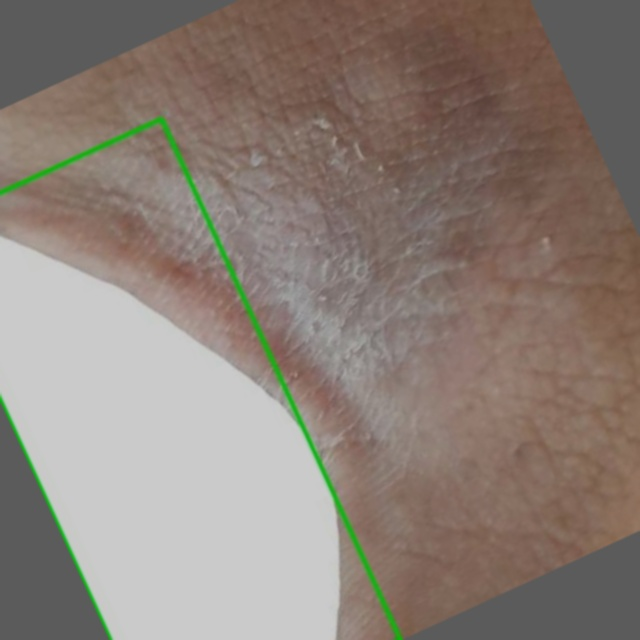Scabies: (0, 118, 400, 639)
